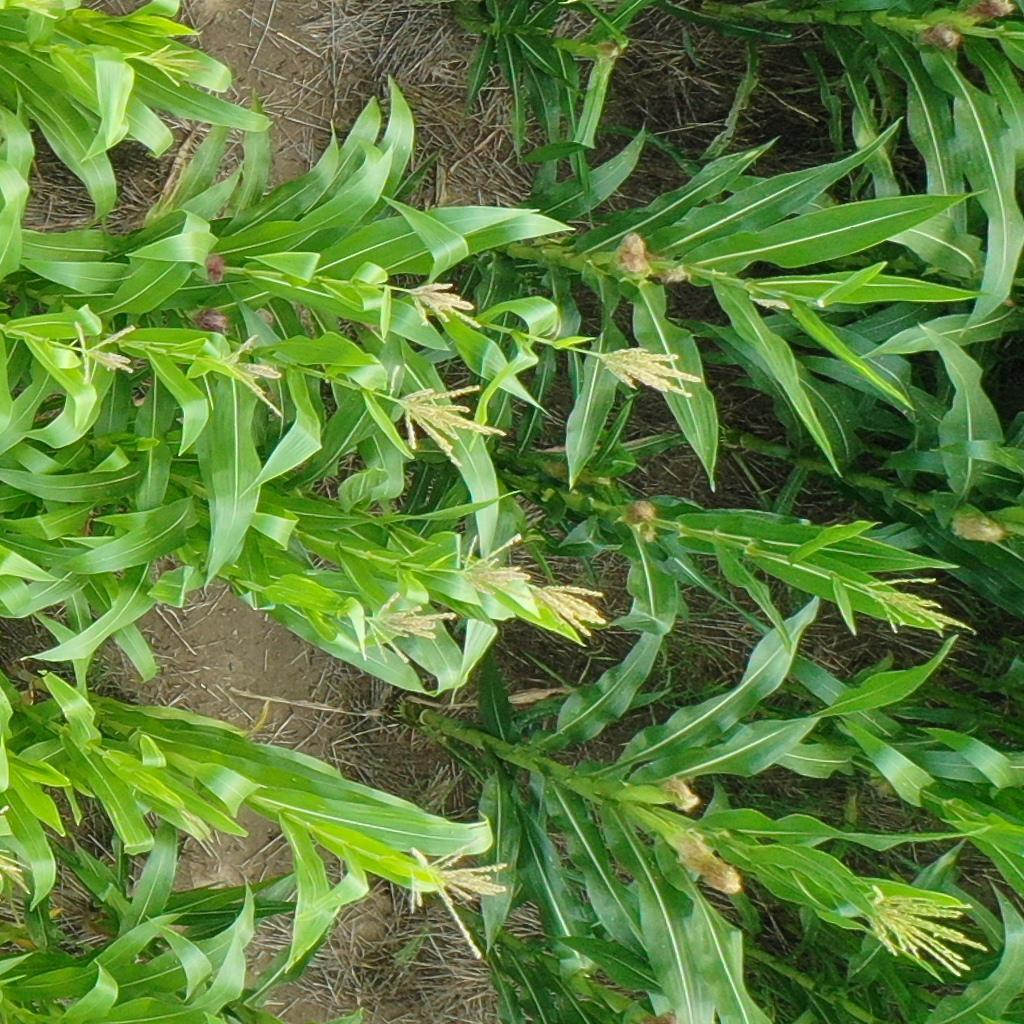Tassel: (399, 836, 510, 962), (384, 363, 506, 470), (860, 886, 990, 985), (862, 569, 978, 640), (362, 590, 458, 669), (207, 332, 288, 416), (596, 342, 704, 399), (448, 529, 536, 598), (530, 576, 608, 640), (68, 318, 138, 386), (405, 279, 484, 331), (138, 38, 199, 90), (1, 842, 35, 894), (9, 1, 63, 22), (746, 291, 791, 311)
